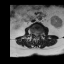CCS_normal: (35, 31, 37, 38)
LFS_severe_stenosis: (38, 31, 40, 36)
LLS_normal: (37, 31, 38, 37)
RFS_severe_stenosis: (32, 30, 34, 36)
RLS_stenosis: (34, 31, 35, 37)
